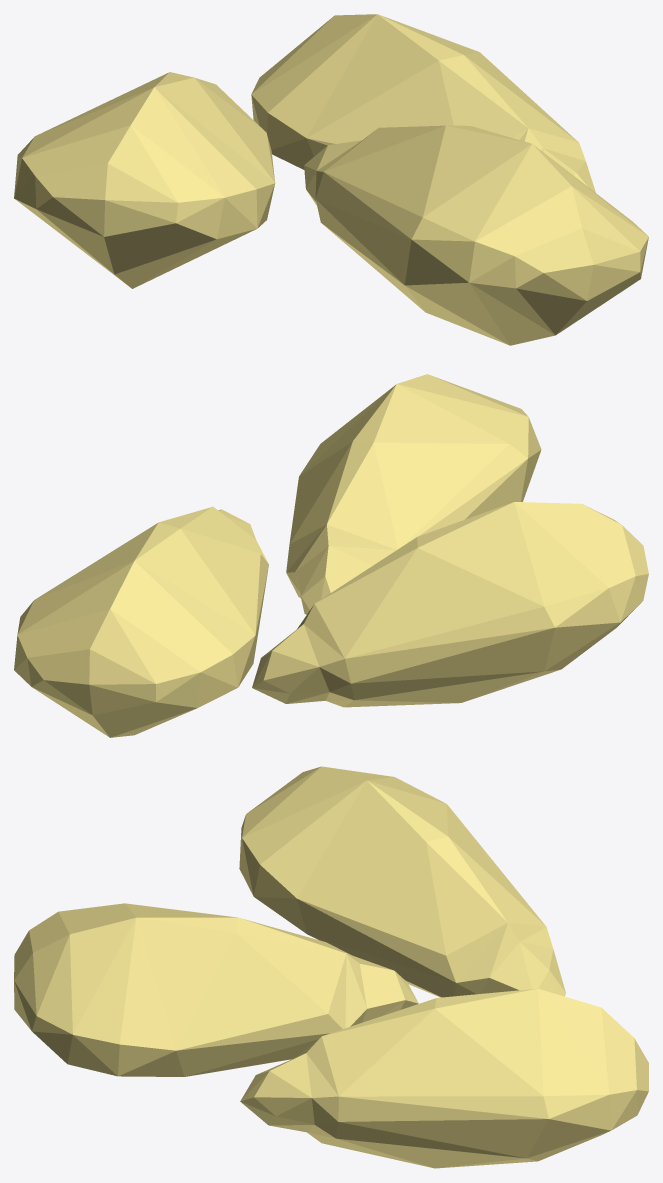
Rendered from BijiWortel.fbx.
3 renders of one model, top to bottom at view 1: azimuth 30°, elevation 25°; view 2: azimuth 150°, elevation 25°; view 3: azimuth 270°, elevation 25°, orthographic. The views are drawn at different scales.
Visible parts, largest first — view 1: benih jeruk.002; view 2: benih jeruk.002; view 3: benih jeruk.002.
Boxes of the visible parts, <box> form: benih jeruk.002: <box>14,14,648,345</box>; benih jeruk.002: <box>14,374,648,737</box>; benih jeruk.002: <box>14,766,648,1168</box>.
Size of the model in its own units: 6.96 by 3.08 by 7.41.
